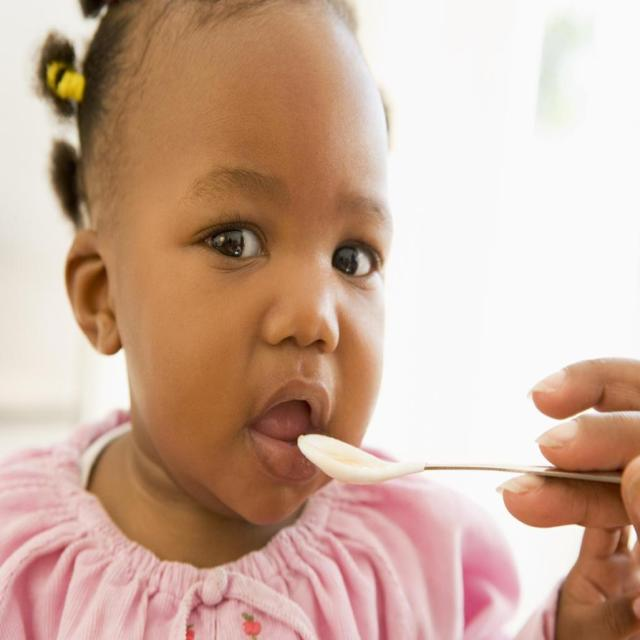child: (9, 1, 536, 635)
